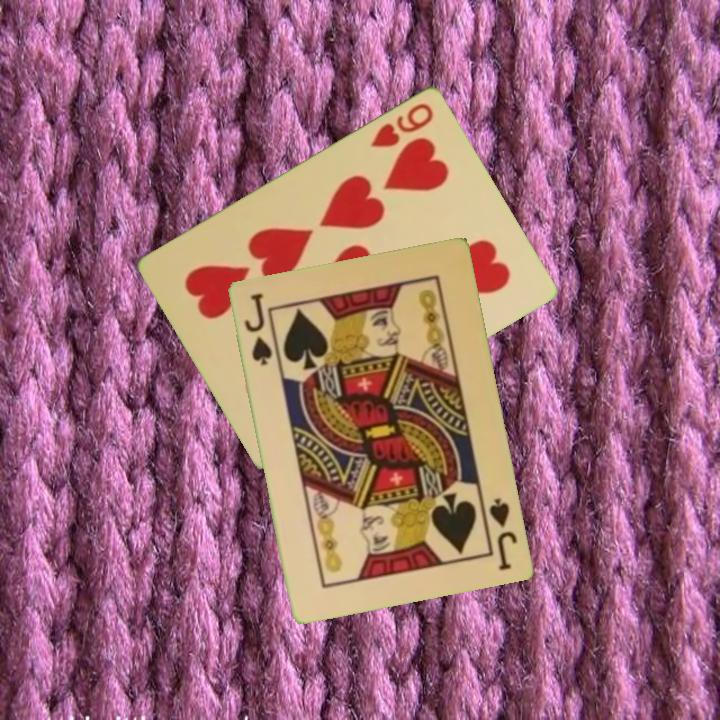9h: (367, 98, 437, 150)
Js: (486, 494, 521, 574), (241, 290, 276, 369)
